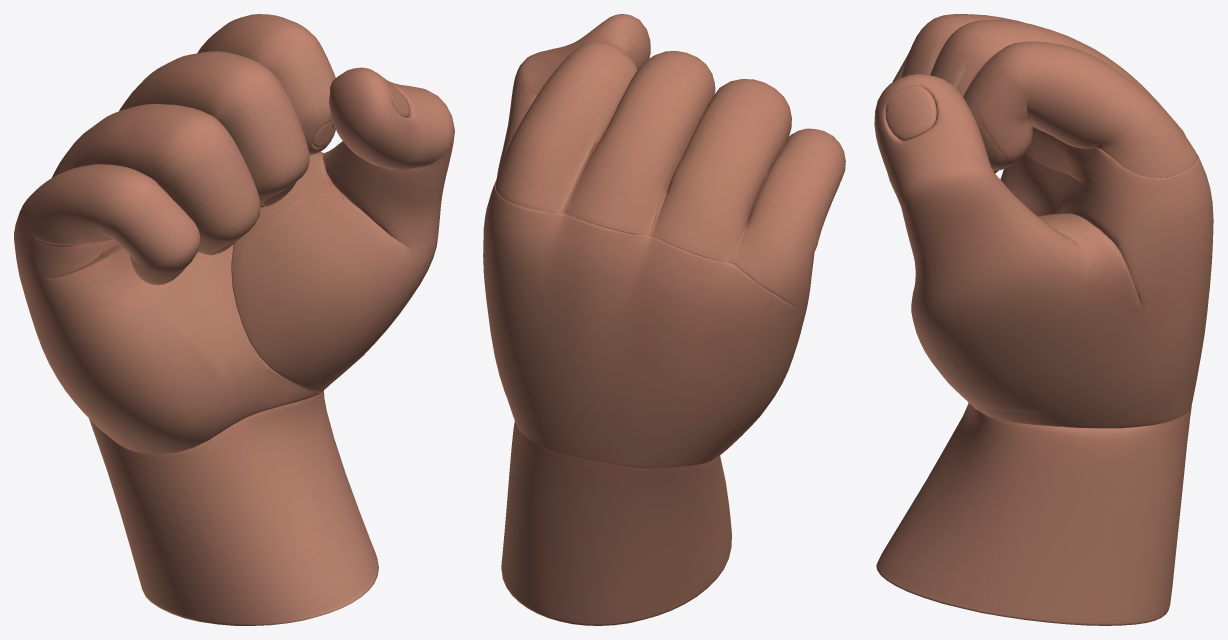
File: toonstudio_fist.glb
3 views of the same model, side by side, from view 1: azimuth 30°, elevation 25°; view 2: azimuth 150°, elevation 25°; view 3: azimuth 270°, elevation 25° (orthographic). The views are drawn at different scales.
Visible parts, largest first — view 1: c6d1c8b9_5114_460c_b1c6_2fb26a67ead6; view 2: c6d1c8b9_5114_460c_b1c6_2fb26a67ead6; view 3: c6d1c8b9_5114_460c_b1c6_2fb26a67ead6.
Part boxes in pixels (box(x1,y1,x2,y2)): c6d1c8b9_5114_460c_b1c6_2fb26a67ead6: box(14, 14, 454, 625); c6d1c8b9_5114_460c_b1c6_2fb26a67ead6: box(483, 14, 845, 625); c6d1c8b9_5114_460c_b1c6_2fb26a67ead6: box(874, 14, 1213, 625).
Bounding box in the file's own units: 0.1349 × 0.2 × 0.1076.
1 material, 1 textured.
